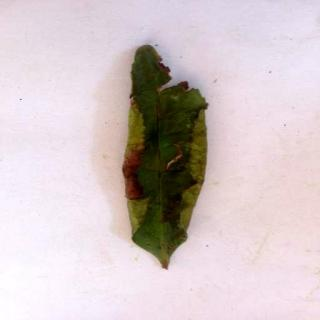Brown Blight: (124, 44, 210, 270)
